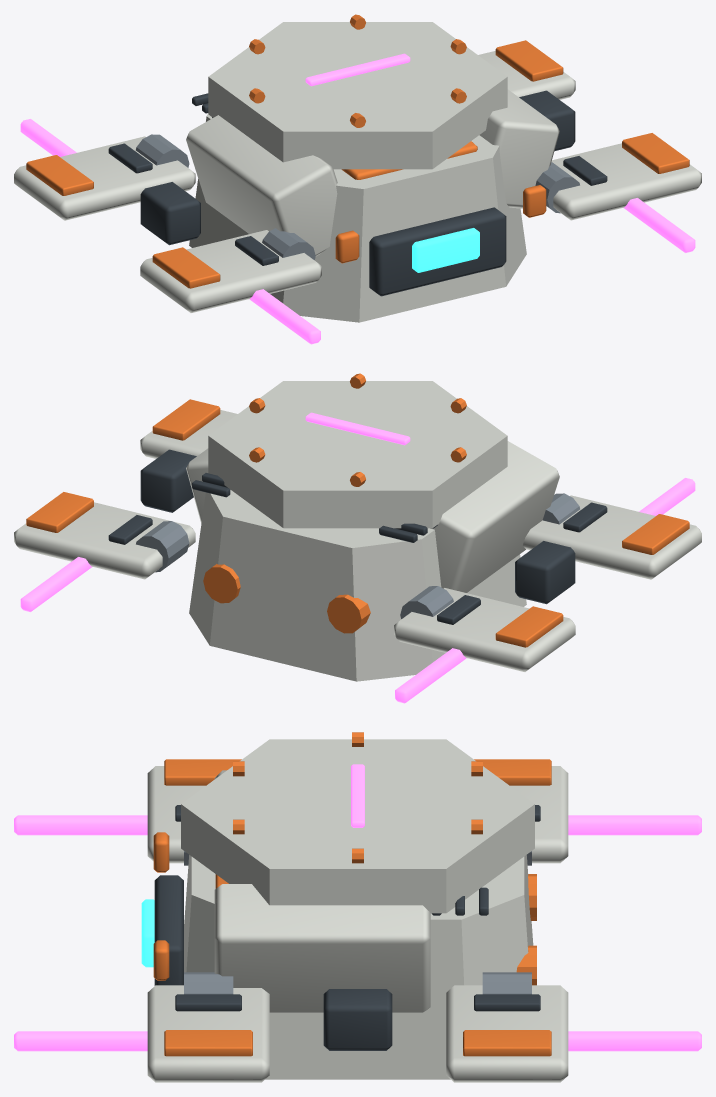
The model's file is VXDR_JAMMER_v003_DRONE.fbx.
The picture shows the model from 3 angles, top to bottom: view 1: azimuth 30°, elevation 25°; view 2: azimuth 150°, elevation 25°; view 3: azimuth 270°, elevation 25°; orthographic projection. The views are drawn at different scales.
Parts seen in each view (by area): view 1: Hexagonal resonator, Faceted sensor hull, Sloped cheek armor, Foldable stabilizer, Sensor recess, Foldable stabilizer.001, Foldable stabilizer.002, Sloped cheek armor.001, Jammer antenna base, Optical sensor, Foldable stabilizer.003, Stabilizer orange tip.003 (+17 smaller); view 2: Hexagonal resonator, Faceted sensor hull, Sloped cheek armor, Foldable stabilizer.001, Foldable stabilizer, Foldable stabilizer.003, Jammer antenna base, Jammer antenna base.001, Foldable stabilizer.002, Stabilizer orange tip.002, Stabilizer orange tip.001, Stabilizer orange tip (+14 smaller); view 3: Hexagonal resonator, Faceted sensor hull, Sloped cheek armor.001, Foldable stabilizer.003, Foldable stabilizer.002, Jammer antenna base.001, Foldable stabilizer.001, Jamming aerial, Jamming aerial.001, Jamming aerial.002, Jamming aerial.003, Foldable stabilizer (+13 smaller).
Boxes of the visible parts, bbox=[...] form: Hexagonal resonator: bbox=[208, 22, 507, 169]; Faceted sensor hull: bbox=[189, 113, 526, 322]; Sloped cheek armor: bbox=[186, 115, 337, 256]; Foldable stabilizer: bbox=[140, 230, 321, 312]; Sensor recess: bbox=[369, 207, 506, 296]; Foldable stabilizer.001: bbox=[14, 136, 195, 220]; Foldable stabilizer.002: bbox=[551, 143, 701, 220]; Sloped cheek armor.001: bbox=[479, 89, 559, 208]; Jammer antenna base: bbox=[140, 182, 200, 245]; Optical sensor: bbox=[412, 228, 479, 272]; Foldable stabilizer.003: bbox=[478, 51, 575, 99]; Stabilizer orange tip.003: bbox=[495, 40, 563, 81]; Hexagonal resonator: bbox=[208, 381, 507, 528]; Faceted sensor hull: bbox=[189, 490, 526, 681]; Sloped cheek armor: bbox=[430, 441, 559, 592]; Foldable stabilizer.001: bbox=[394, 588, 575, 671]; Foldable stabilizer: bbox=[523, 495, 701, 579]; Foldable stabilizer.003: bbox=[14, 502, 195, 579]; Jammer antenna base: bbox=[515, 541, 575, 604]; Jammer antenna base.001: bbox=[140, 449, 196, 512]; Foldable stabilizer.002: bbox=[140, 410, 237, 458]; Stabilizer orange tip.002: bbox=[152, 399, 220, 440]; Stabilizer orange tip.001: bbox=[495, 606, 563, 647]; Stabilizer orange tip: bbox=[622, 514, 689, 554]; Hexagonal resonator: bbox=[181, 739, 534, 913]; Faceted sensor hull: bbox=[184, 855, 533, 1079]; Sloped cheek armor.001: bbox=[214, 884, 430, 1012]; Foldable stabilizer.003: bbox=[446, 985, 568, 1082]; Foldable stabilizer.002: bbox=[147, 985, 269, 1082]; Jammer antenna base.001: bbox=[323, 989, 392, 1050]; Foldable stabilizer.001: bbox=[510, 766, 568, 863]; Jamming aerial: bbox=[14, 815, 147, 835]; Jamming aerial.001: bbox=[568, 815, 701, 835]; Jamming aerial.002: bbox=[14, 1031, 147, 1051]; Jamming aerial.003: bbox=[568, 1031, 701, 1051]; Foldable stabilizer: bbox=[147, 766, 205, 863].
Bounding box in the file's own units: 35.9 × 12.25 × 35.
